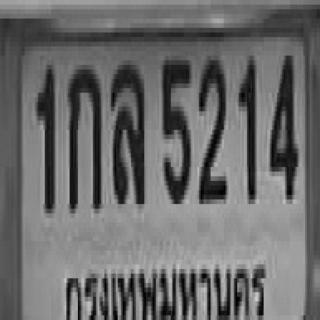A01: (66, 60, 100, 209)
A36: (109, 60, 144, 199)
N01: (237, 51, 255, 200), (35, 60, 53, 209)
N02: (197, 53, 226, 197)
N04: (269, 51, 297, 195)
N05: (161, 56, 189, 199)
P04: (61, 258, 273, 320)
